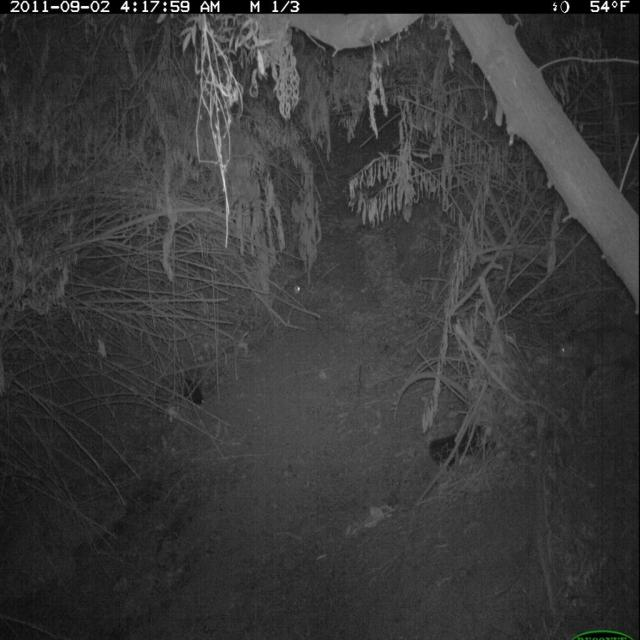opossum: (555, 324, 640, 388)
